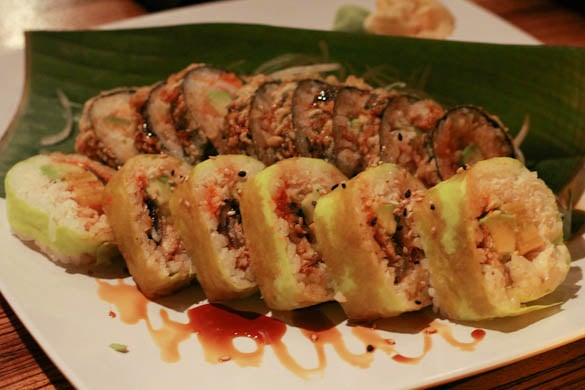salad: (406, 156, 572, 323), (313, 161, 435, 324), (239, 156, 347, 312), (104, 153, 199, 298), (176, 153, 265, 303)
